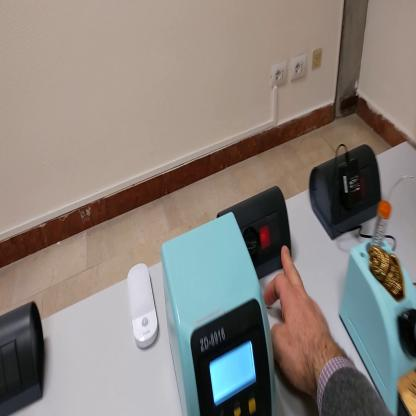hand: (266, 242, 336, 390)
socket: (217, 185, 295, 279), (312, 142, 385, 238)
welder base: (340, 200, 416, 414)
welder station: (161, 211, 279, 415)
